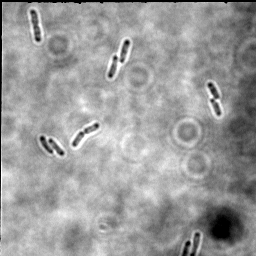Dividing: (71, 121, 101, 149), (28, 8, 43, 44)
Rod: (117, 38, 132, 64), (47, 137, 65, 157), (189, 231, 204, 255), (106, 55, 120, 80), (38, 135, 54, 155), (205, 81, 221, 100), (208, 98, 223, 118)
